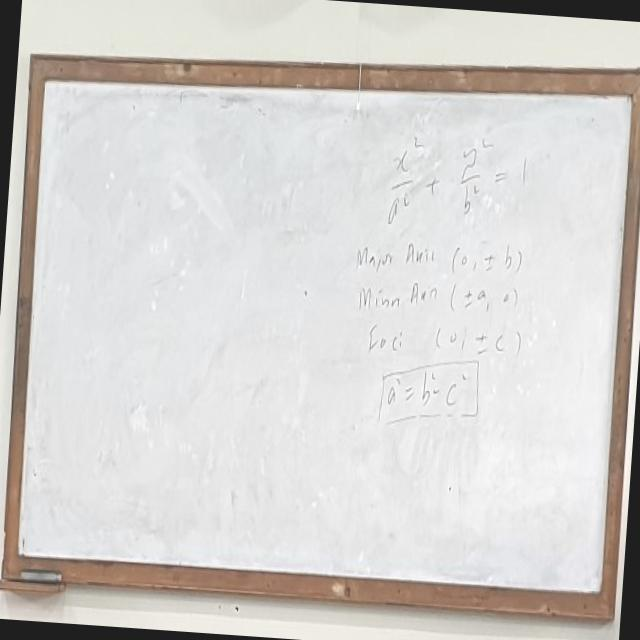White-board: (9, 70, 640, 607)
